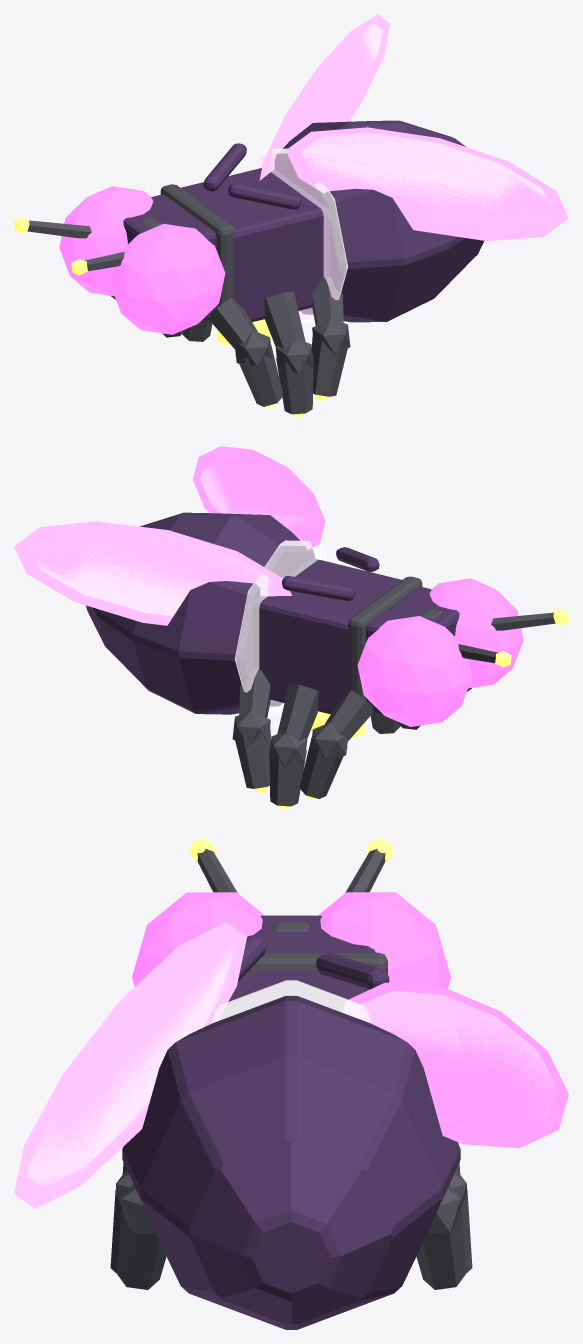
The model's file is fly.glb.
3 renders of one model, top to bottom at view 1: azimuth 30°, elevation 25°; view 2: azimuth 150°, elevation 25°; view 3: azimuth 270°, elevation 25°, orthographic. The views are drawn at different scales.
Parts seen in each view (by area): view 1: Fly; view 2: Fly; view 3: Fly.
Boxes of the visible parts, x1,y1,x2,y2 form: Fly: (14, 14, 568, 417); Fly: (14, 446, 568, 809); Fly: (14, 838, 568, 1329).
Size of the model in its own units: 0.5185 by 0.2892 by 0.3622.
